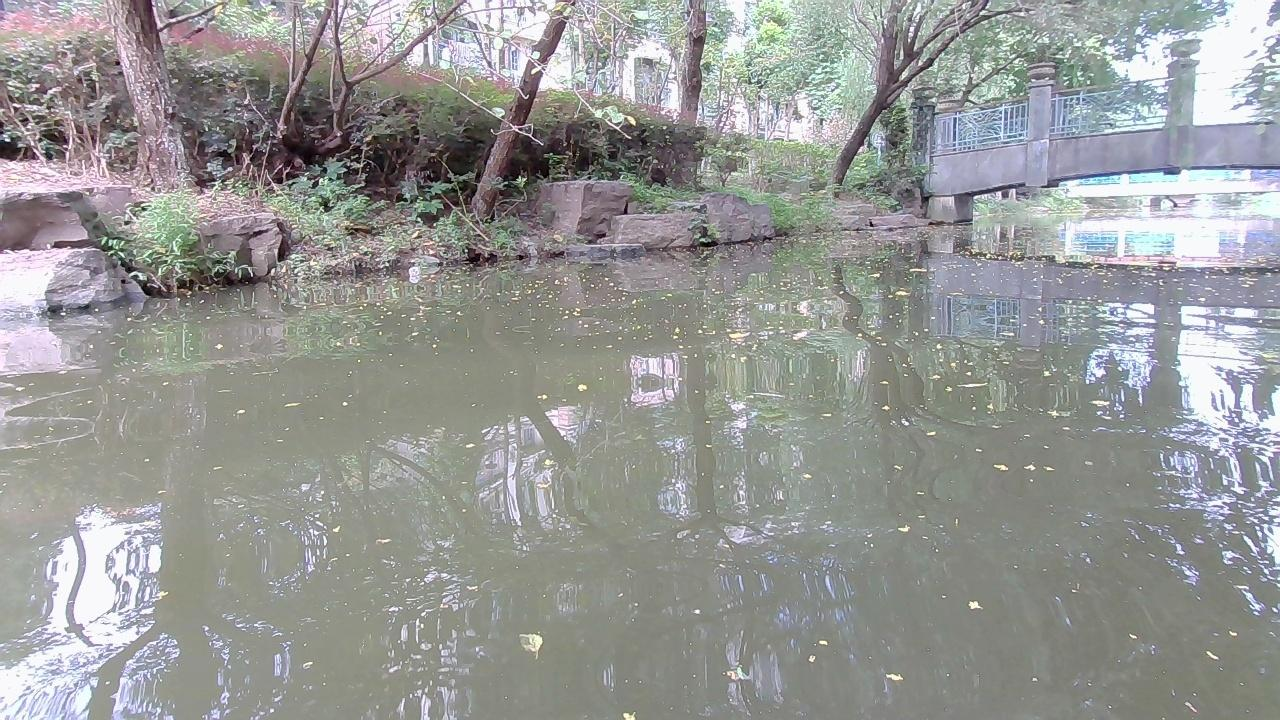bottle: (404, 262, 424, 277)
